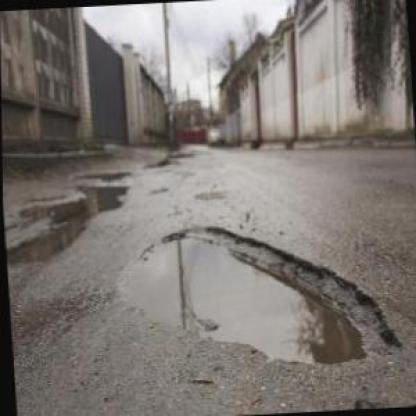pothole: (113, 212, 400, 377)
